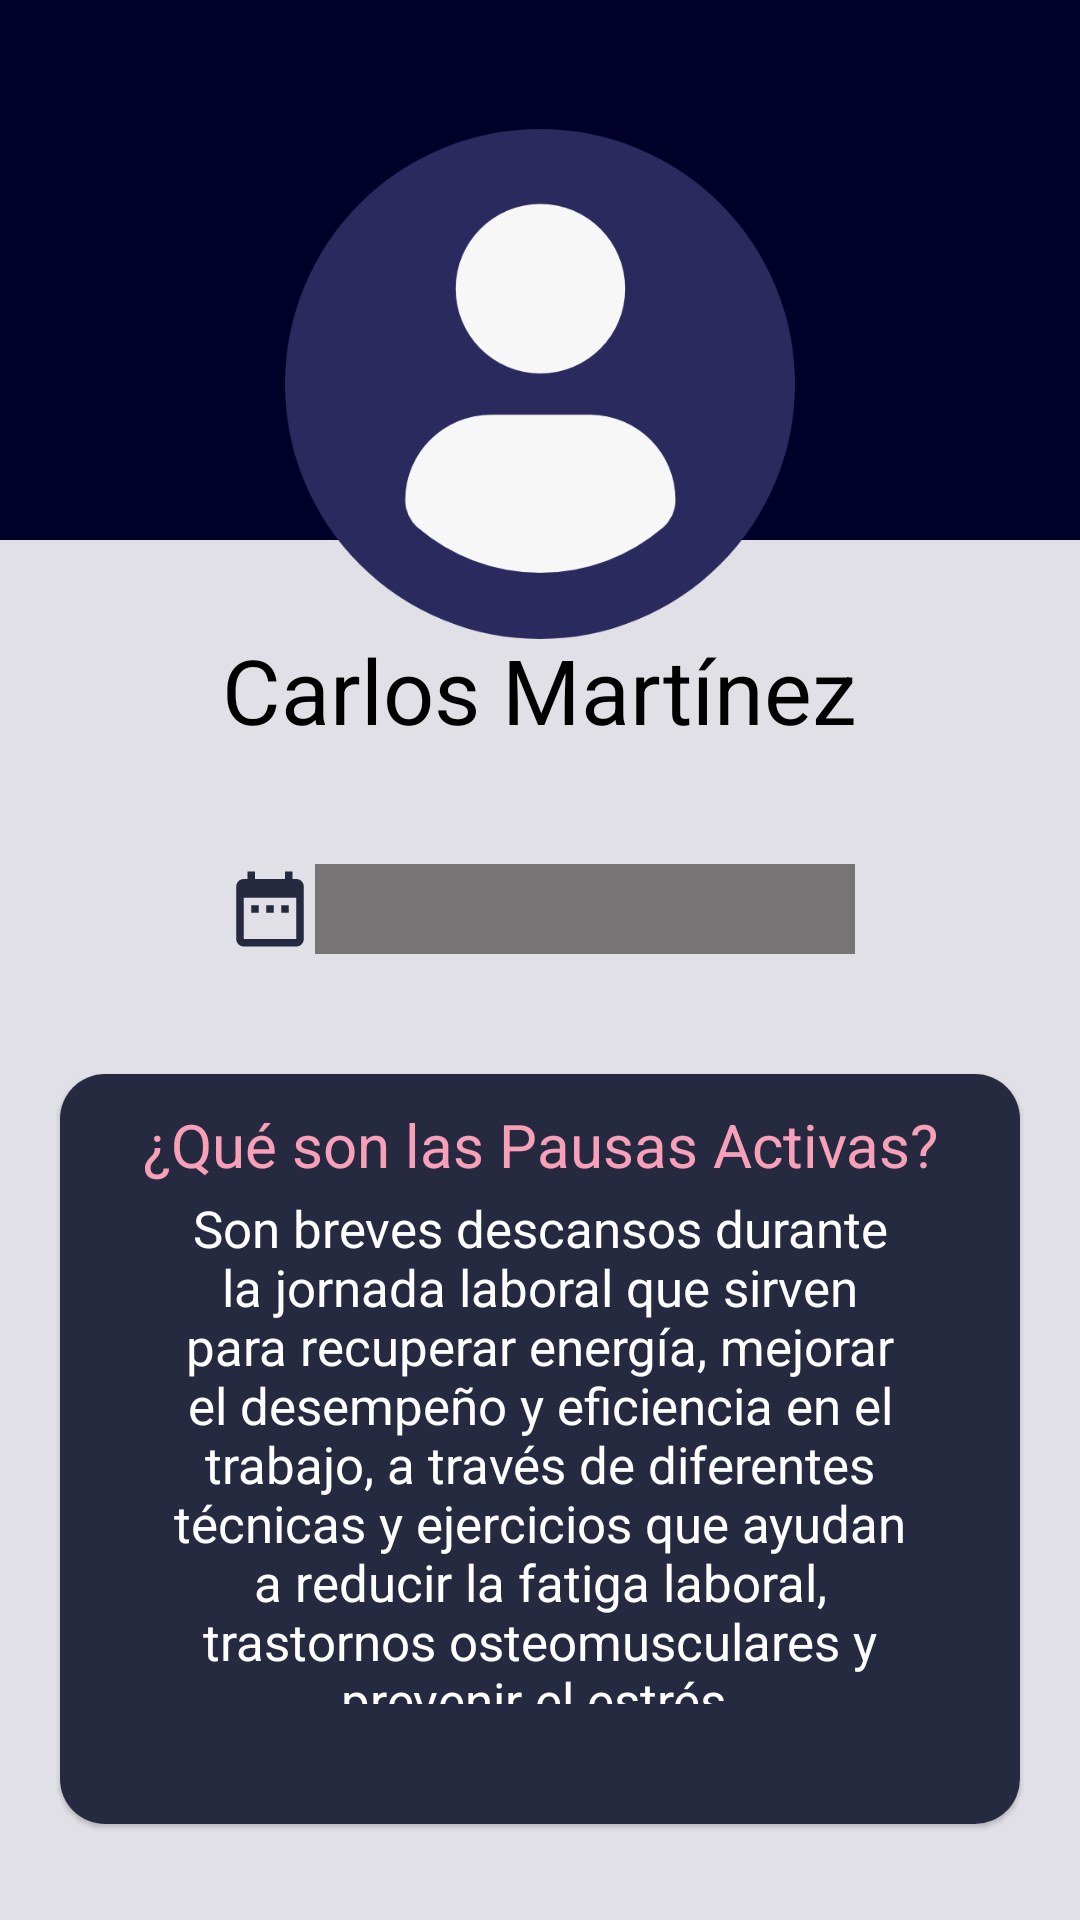

Where icons sit on this 1080×1920 app screen, as (x1, y1, x2, y2):
date range: (236, 871, 304, 947)
